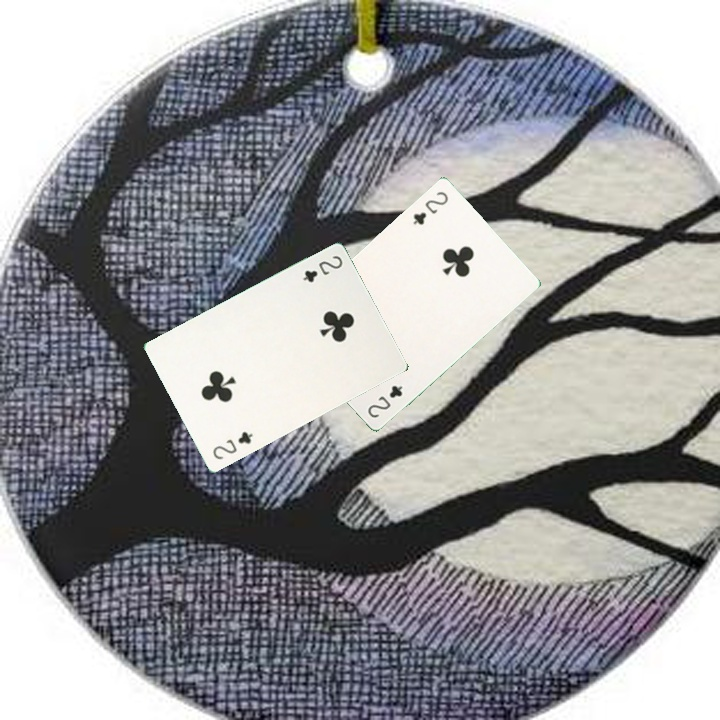2c: (409, 187, 451, 228), (208, 427, 256, 462), (363, 381, 405, 420), (299, 251, 345, 285)
